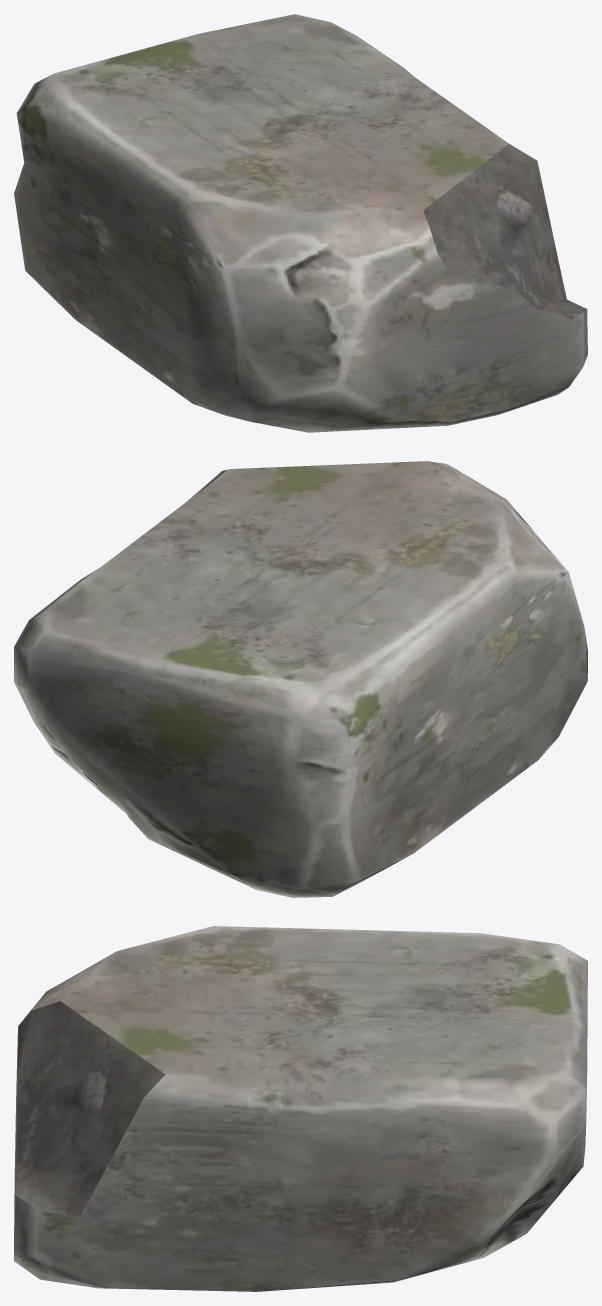
3 renders of one model, top to bottom at view 1: azimuth 30°, elevation 25°; view 2: azimuth 150°, elevation 25°; view 3: azimuth 270°, elevation 25°, orthographic. The views are drawn at different scales.
Parts seen in each view (by area): view 1: SM_Castle_Floor_Stone_01_Dmg_v5_LOD0; view 2: SM_Castle_Floor_Stone_01_Dmg_v5_LOD0; view 3: SM_Castle_Floor_Stone_01_Dmg_v5_LOD0.
Boxes of the visible parts, x1=… form: SM_Castle_Floor_Stone_01_Dmg_v5_LOD0: x1=14, y1=14, x2=587, y2=432; SM_Castle_Floor_Stone_01_Dmg_v5_LOD0: x1=14, y1=461, x2=587, y2=897; SM_Castle_Floor_Stone_01_Dmg_v5_LOD0: x1=14, y1=926, x2=587, y2=1291.
Bounding box in the file's own units: 0.5459 × 0.3476 × 0.8083.
Materials: 2 (2 with a texture image).
